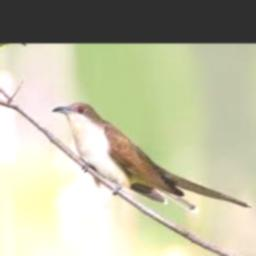Cuckoo: (52, 103, 253, 213)
